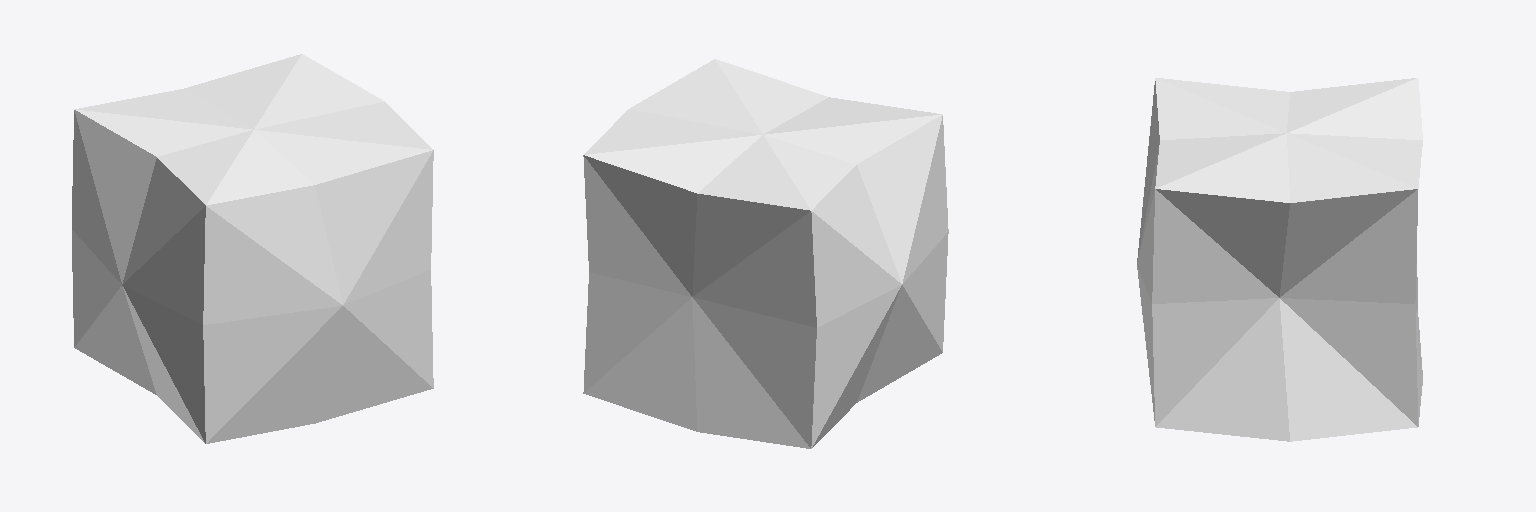
Rendered from pribris.obj.
The picture shows the model from 3 angles: view 1: azimuth 30°, elevation 25°; view 2: azimuth 150°, elevation 25°; view 3: azimuth 270°, elevation 25°; orthographic projection.
Parts seen in each view (by area): view 1: Cube; view 2: Cube; view 3: Cube.
Part boxes in pixels (bbox=[...]): Cube: bbox=[72, 54, 433, 443]; Cube: bbox=[583, 59, 948, 448]; Cube: bbox=[1137, 78, 1422, 441].
Size of the model in its own units: 1.18 by 1.03 by 1.09.